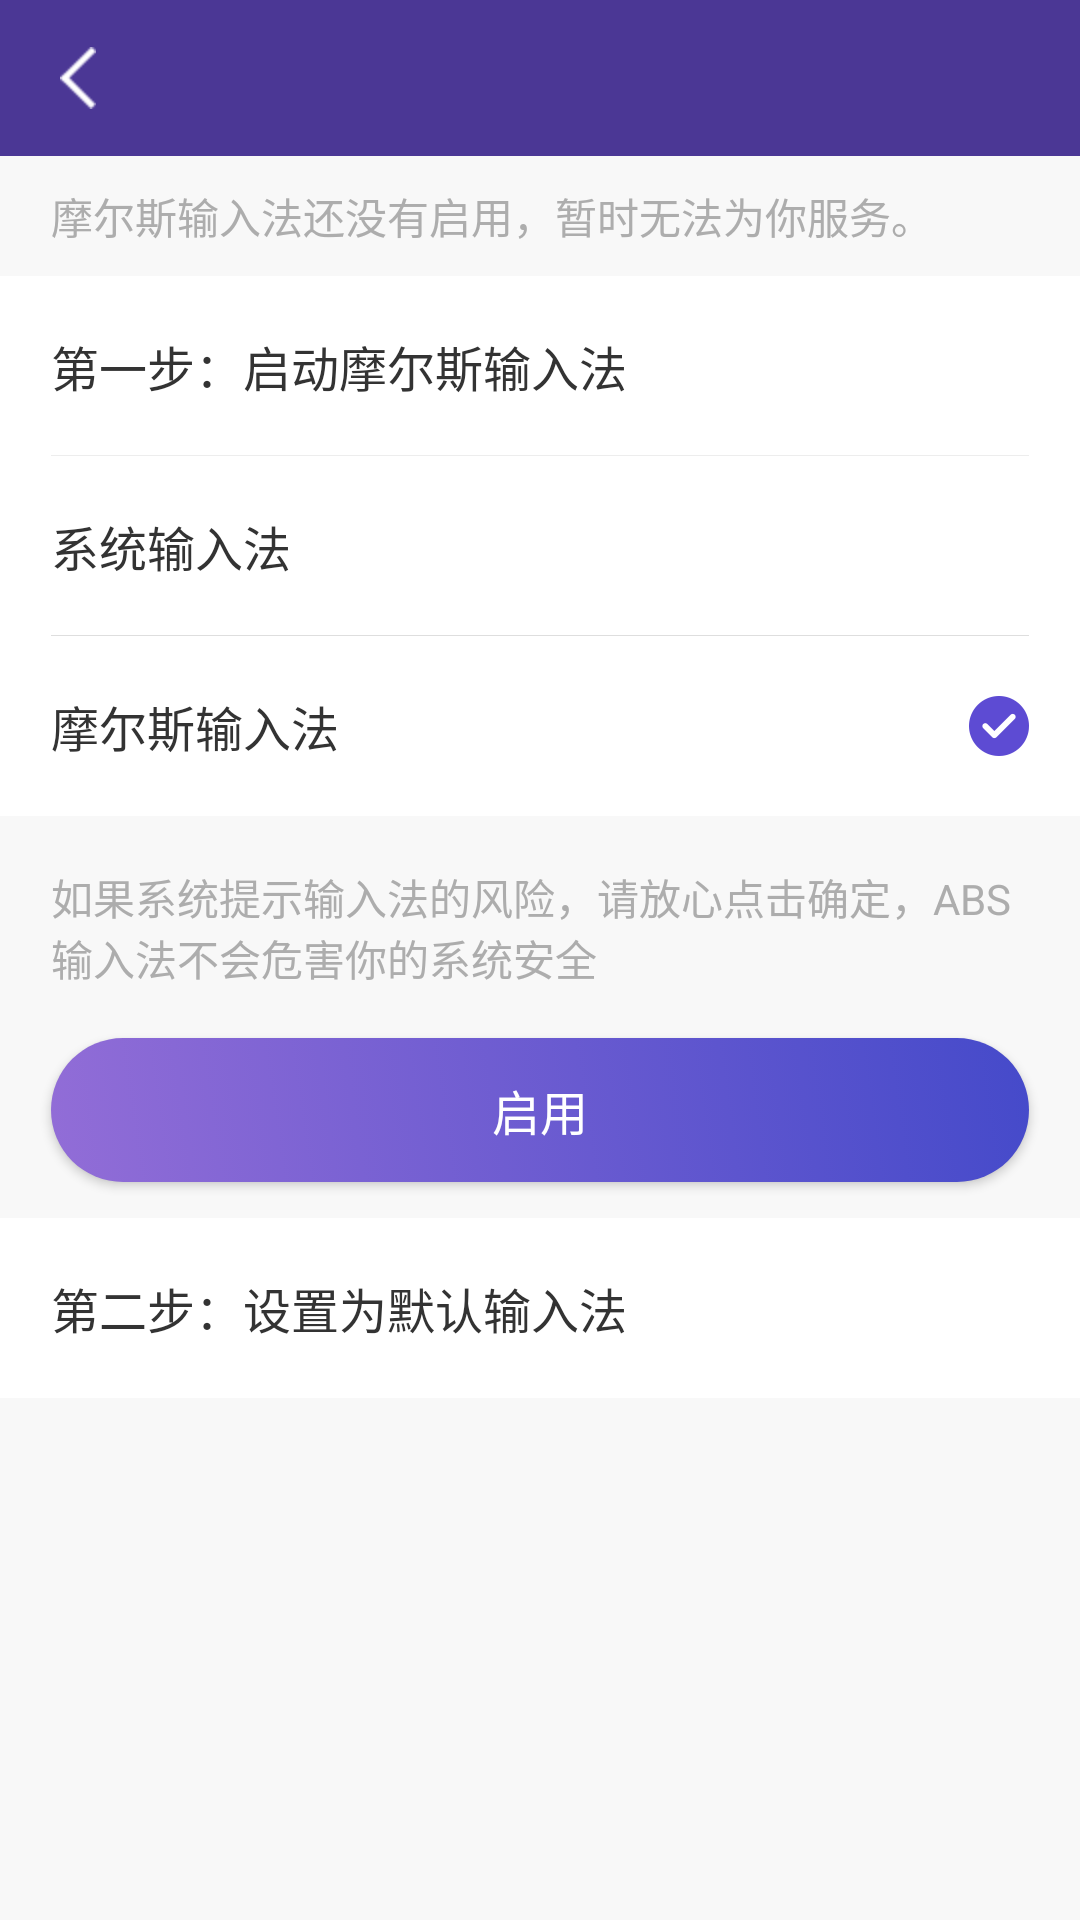

Icon bounding boxes for this 1080w x 1920h phone screenshot, format region(x1, y1, x2, y2):
home guide success: region(969, 696, 1029, 756)
title back: region(60, 47, 96, 109)
